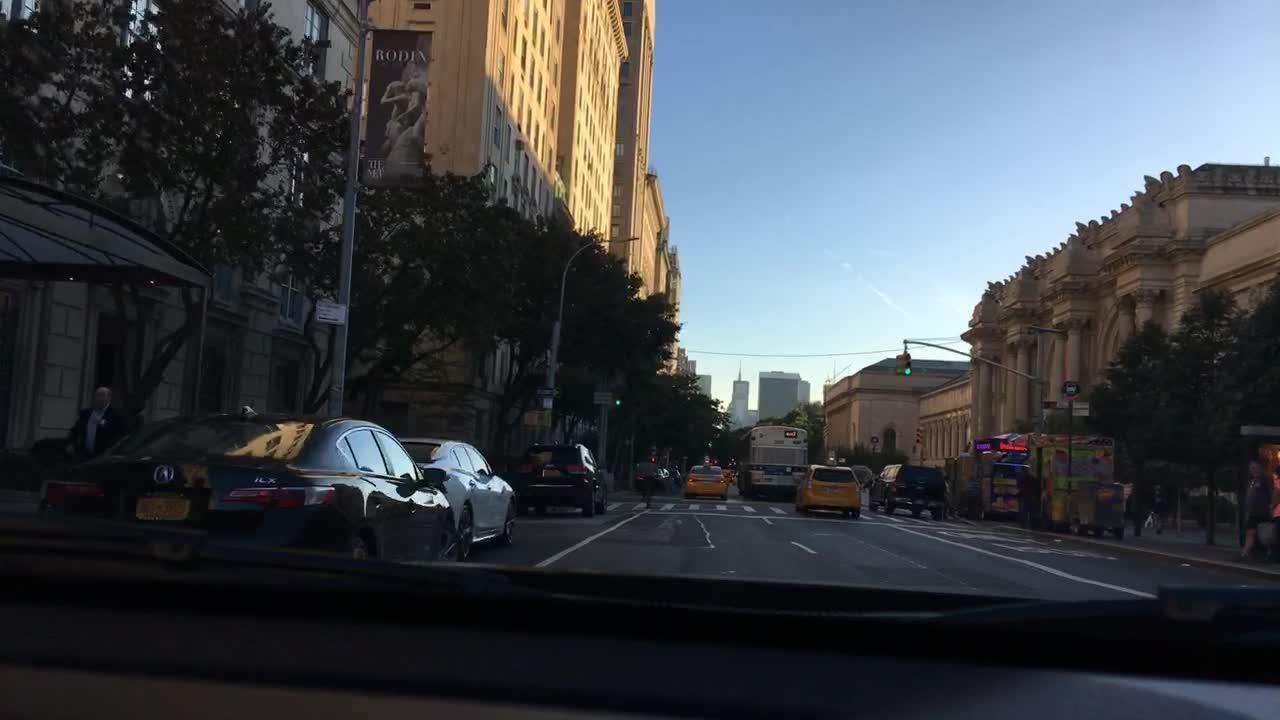acura: (148, 461, 180, 489)
